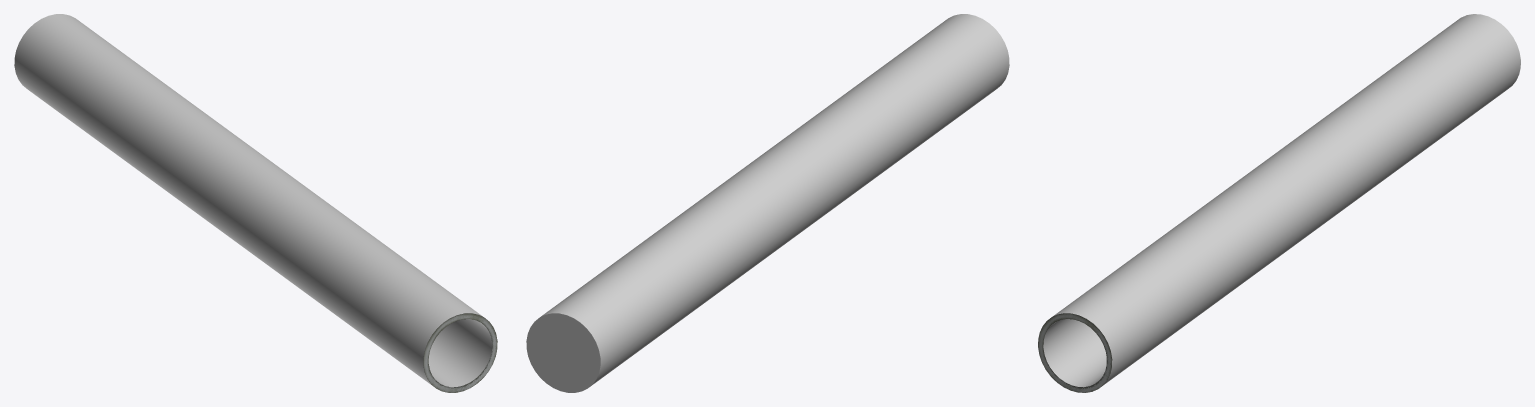
Rendered from Pipe_Large.fbx.
The picture shows the model from 3 angles, left to right: view 1: azimuth 30°, elevation 25°; view 2: azimuth 150°, elevation 25°; view 3: azimuth 330°, elevation 25°; orthographic projection.
Visible parts, largest first — view 1: Pipe_Large; view 2: Pipe_Large; view 3: Pipe_Large.
Boxes of the visible parts, x1,y1,x2,y2 form: Pipe_Large: (14, 14, 497, 392); Pipe_Large: (526, 14, 1009, 392); Pipe_Large: (1038, 14, 1520, 392).
Size of the model in its own units: 24.68 by 24.68 by 236.
